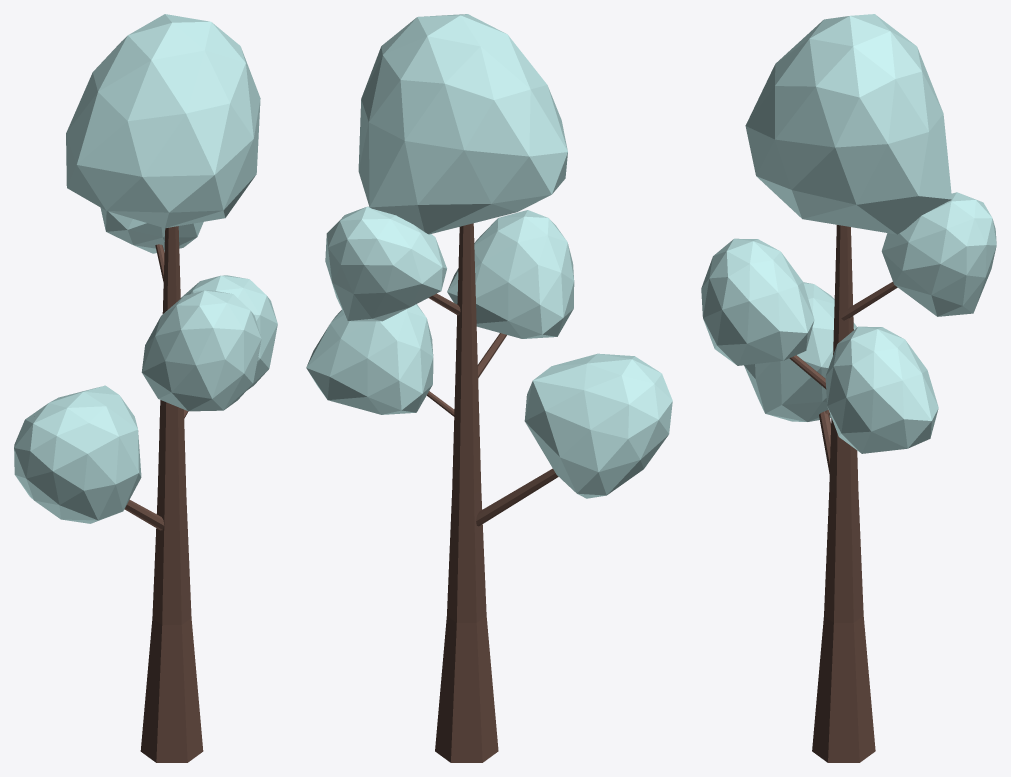
File: WinterTree_04.fbx
The picture shows the model from 3 angles, left to right: view 1: azimuth 30°, elevation 25°; view 2: azimuth 150°, elevation 25°; view 3: azimuth 270°, elevation 25°; orthographic projection.
Parts seen in each view (by area): view 1: WinterTree_04; view 2: WinterTree_04; view 3: WinterTree_04.
Part boxes in pixels (box(x1,y1,x2,y2)): WinterTree_04: box(14, 14, 277, 762); WinterTree_04: box(306, 14, 672, 762); WinterTree_04: box(701, 14, 996, 762).
Bounding box in the file's own units: 462 × 1086 × 395.
